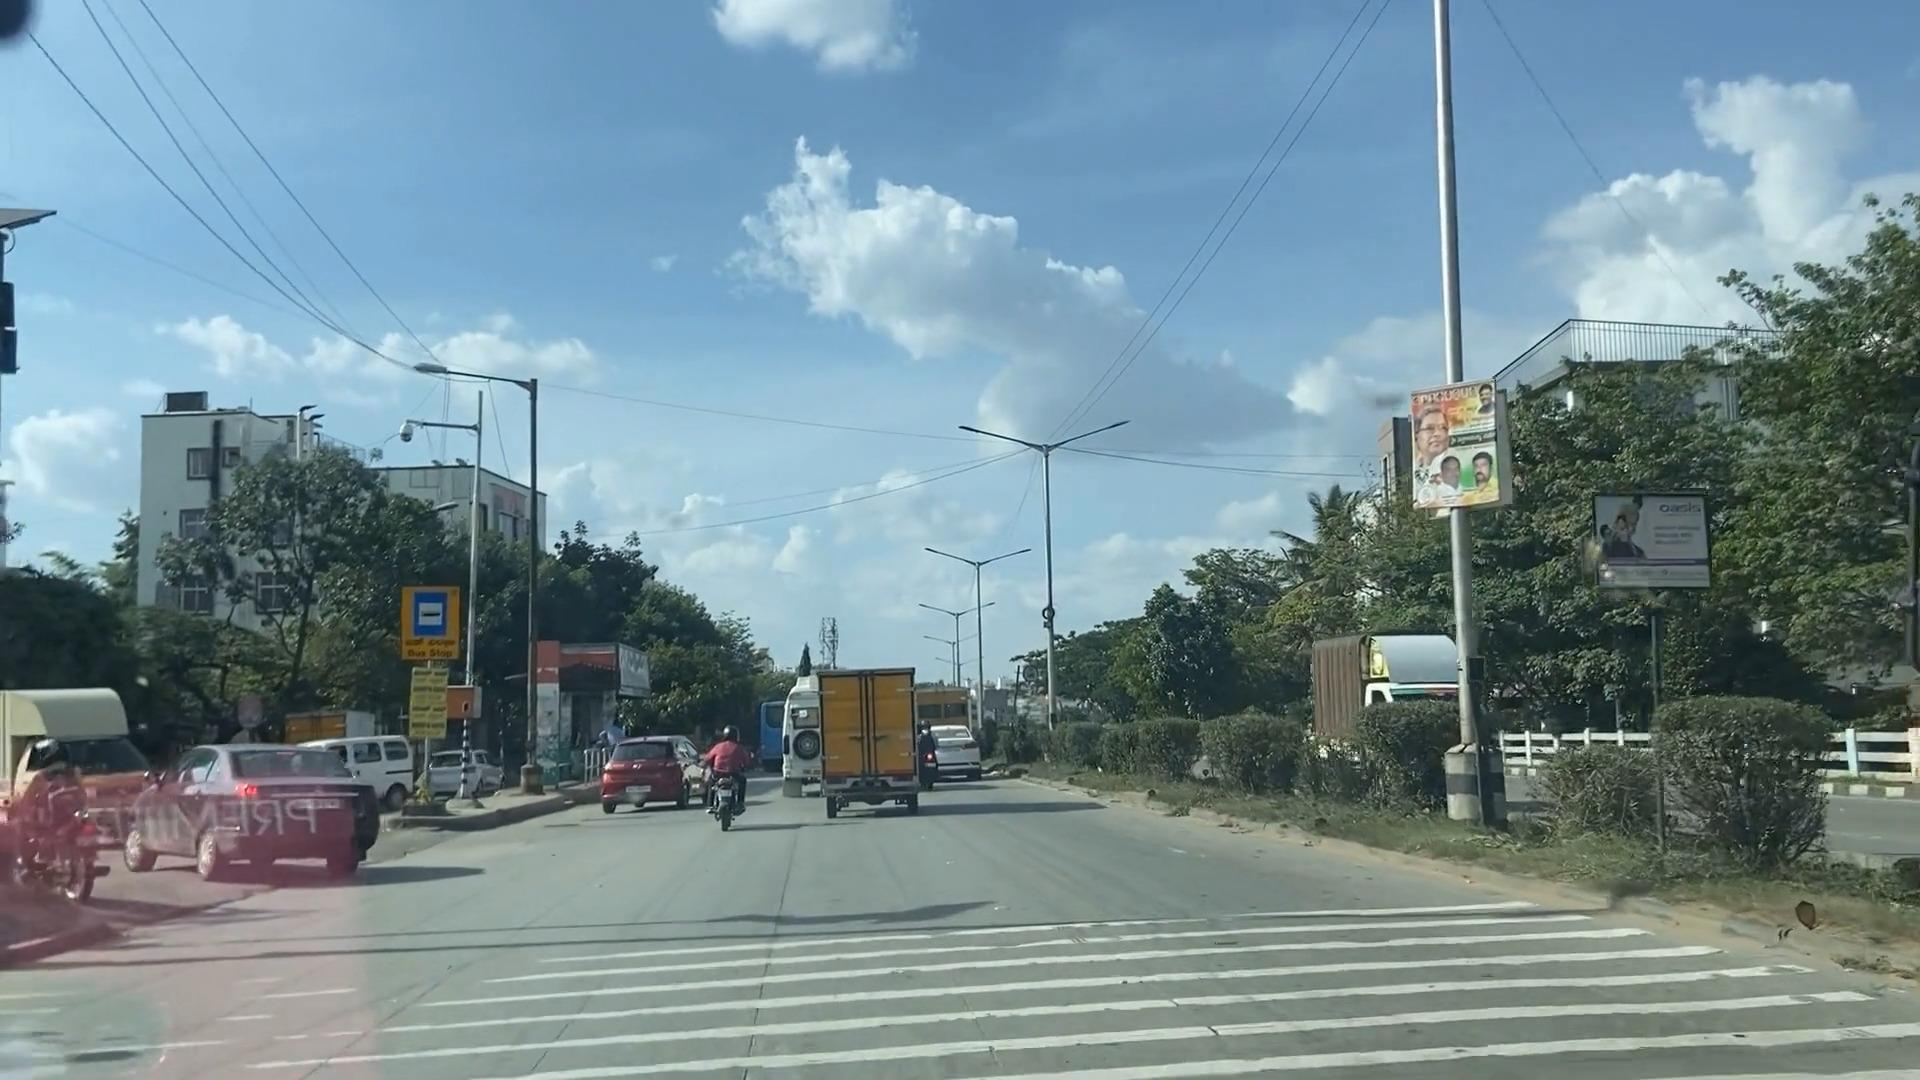HMV: (819, 646, 927, 811)
LMV: (140, 746, 371, 869), (604, 735, 707, 811), (711, 716, 754, 816)
SpeedBump: (80, 924, 1825, 1080)
